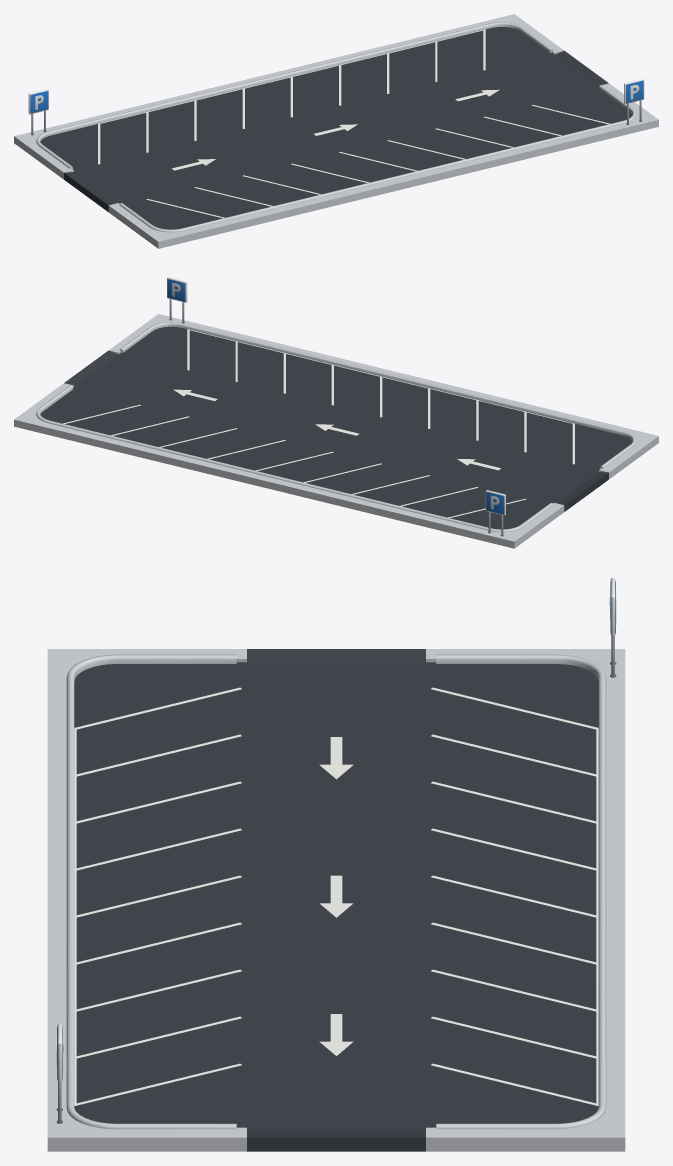
The model's file is estacionamento_inclinado.glb.
3 renders of one model, top to bottom at view 1: azimuth 30°, elevation 25°; view 2: azimuth 150°, elevation 25°; view 3: azimuth 270°, elevation 25°, orthographic. The views are drawn at different scales.
Visible parts, largest first — view 1: estacionamento_inclinado; view 2: estacionamento_inclinado; view 3: estacionamento_inclinado.
Part boxes in pixels (box(x1,y1,x2,y2)): estacionamento_inclinado: box(14, 14, 658, 248); estacionamento_inclinado: box(14, 277, 658, 548); estacionamento_inclinado: box(47, 577, 625, 1151).
Bounding box in the file's own units: 30 × 2.8 × 15.
Materials: 1 (1 with a texture image).
